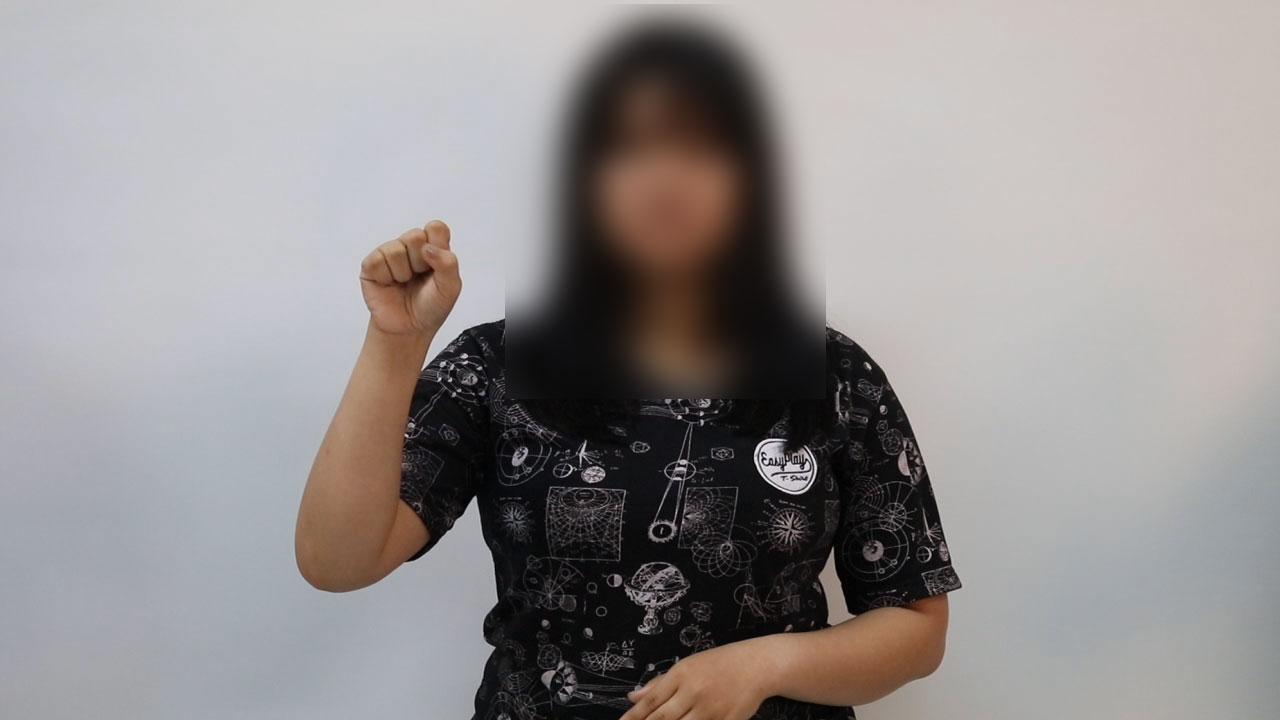sor: (351, 204, 468, 347)
